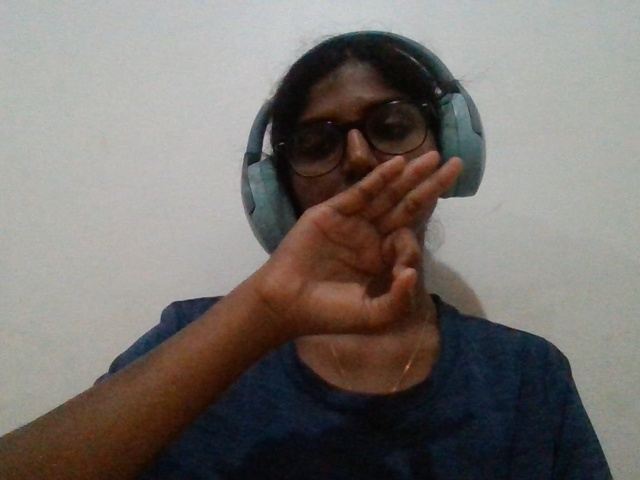F: (251, 121, 556, 457)
